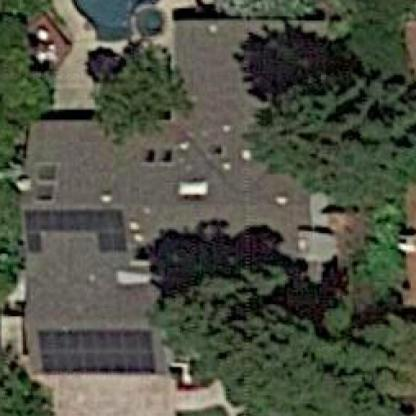solar_panel: (32, 320, 171, 393), (23, 202, 137, 263)
swimming_pool: (64, 1, 173, 62)
